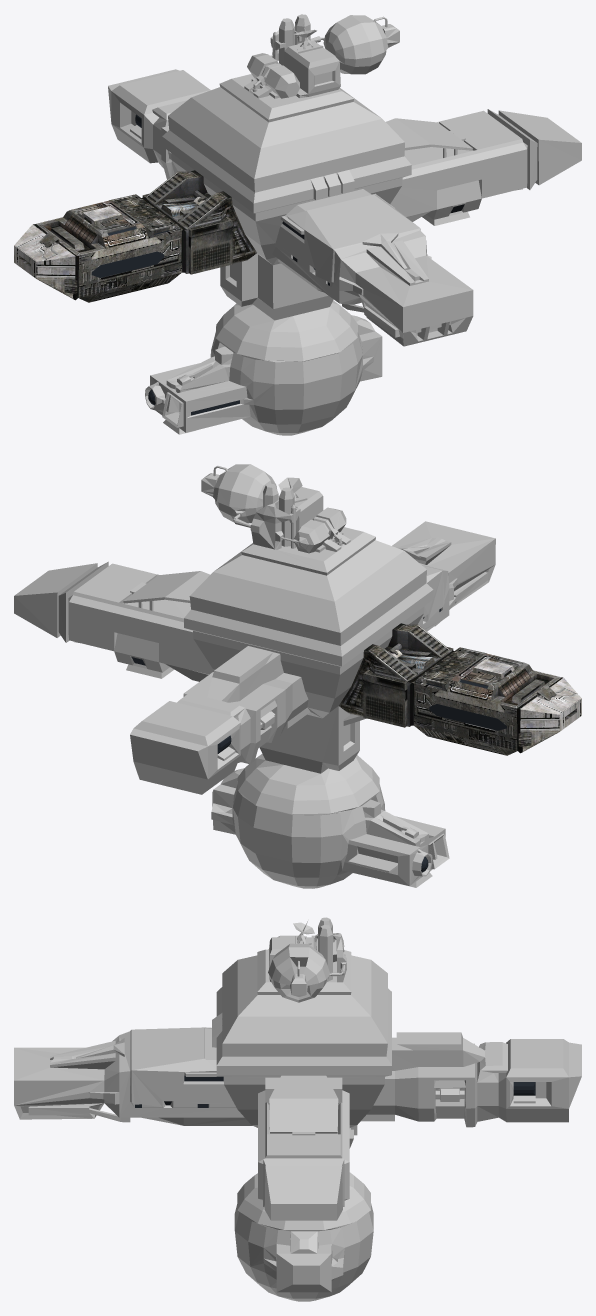
Rendered from spacestation_outpost_mining_l1.fbx.
3 views of the same model, one above another, from view 1: azimuth 30°, elevation 25°; view 2: azimuth 150°, elevation 25°; view 3: azimuth 270°, elevation 25° (orthographic). The views are drawn at different scales.
Visible parts, largest first — view 1: mesh_node; view 2: mesh_node; view 3: mesh_node.
Part boxes in pixels (x1,y1,x2,y2): mesh_node: [14, 14, 581, 435]; mesh_node: [14, 464, 581, 888]; mesh_node: [14, 917, 581, 1301].
Bounding box in the file's own units: 305 × 216 × 291.
